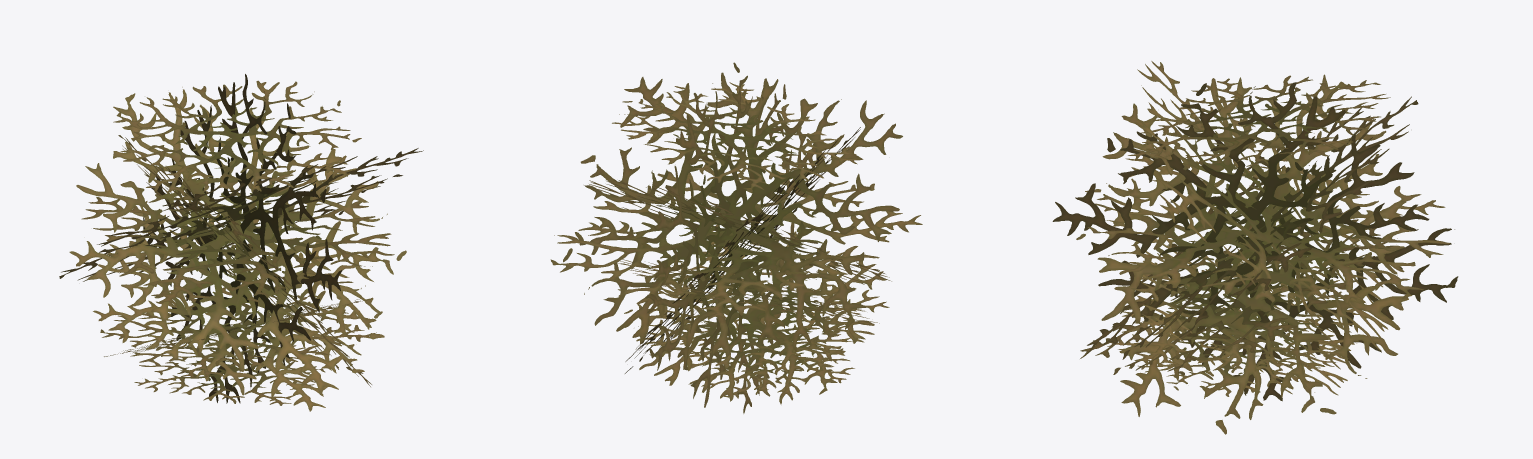
The model's file is oVgtAIO1L.FBX.
3 views of the same model, side by side, from view 1: azimuth 30°, elevation 25°; view 2: azimuth 150°, elevation 25°; view 3: azimuth 270°, elevation 25° (orthographic). The views are drawn at different scales.
Visible parts, largest first — view 1: oVgtAIO1L; view 2: oVgtAIO1L; view 3: oVgtAIO1L.
Part boxes in pixels (box(x1,y1,x2,y2)): oVgtAIO1L: box(59, 74, 423, 411); oVgtAIO1L: box(550, 62, 922, 413); oVgtAIO1L: box(1052, 61, 1458, 434).
Bounding box in the file's own units: 9.12 × 9.2 × 8.98.
1 material, 1 textured.
